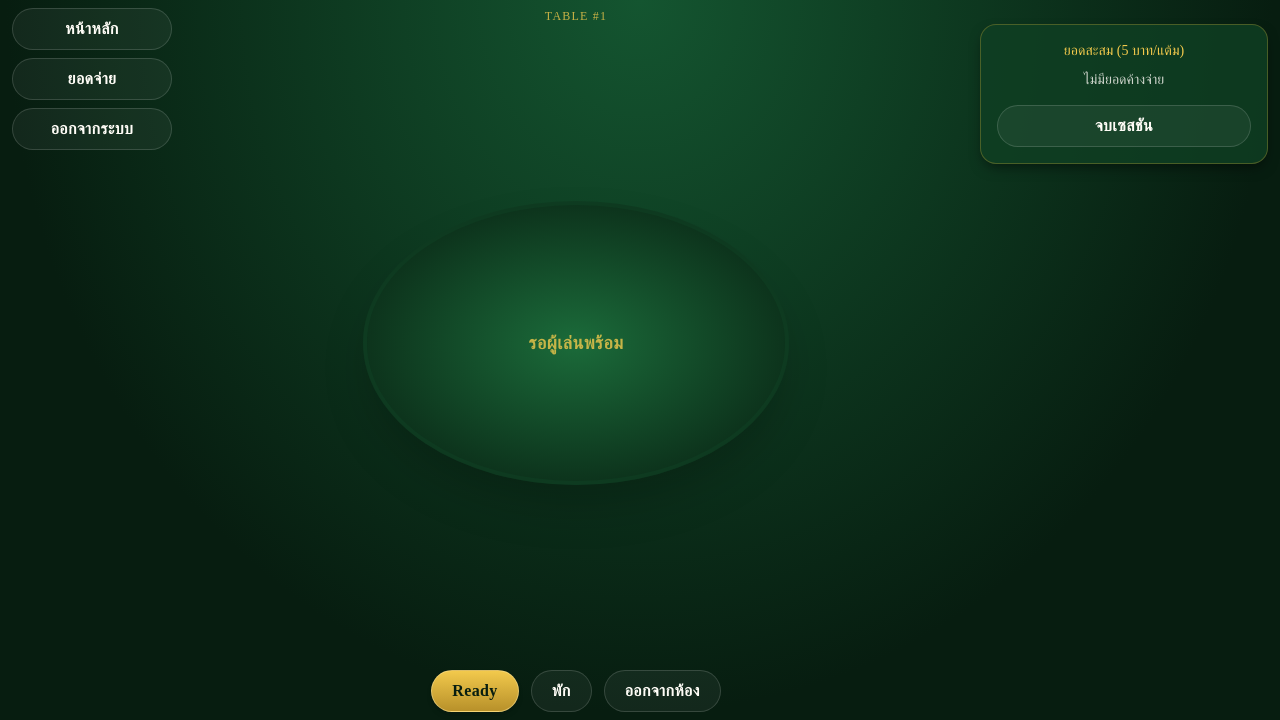
App screen routing › logging out clears sessionStorage and returns to the Login screen
The width and height of the screenshot is (1280, 720).
Click the button "ออกจากระบบ". click: (92, 129)
box: [12,108,172,150]
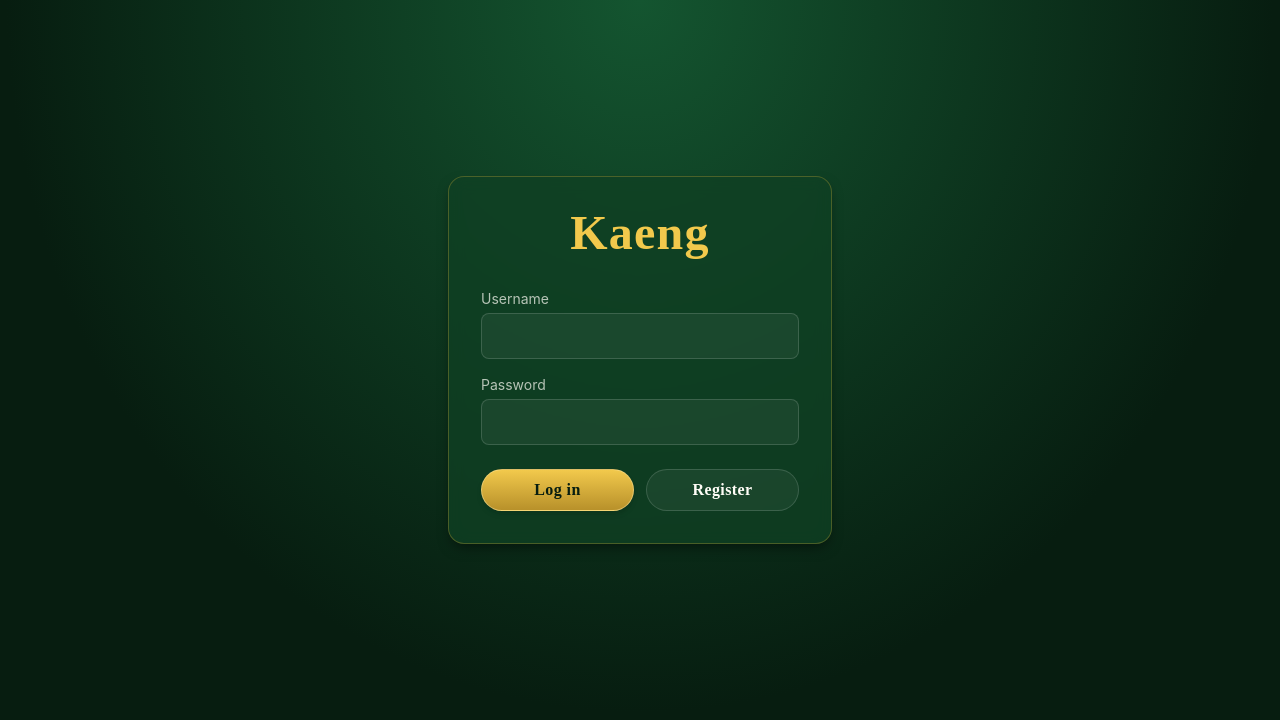
Result: the button "Log in" is shown at [481,469,634,511]
